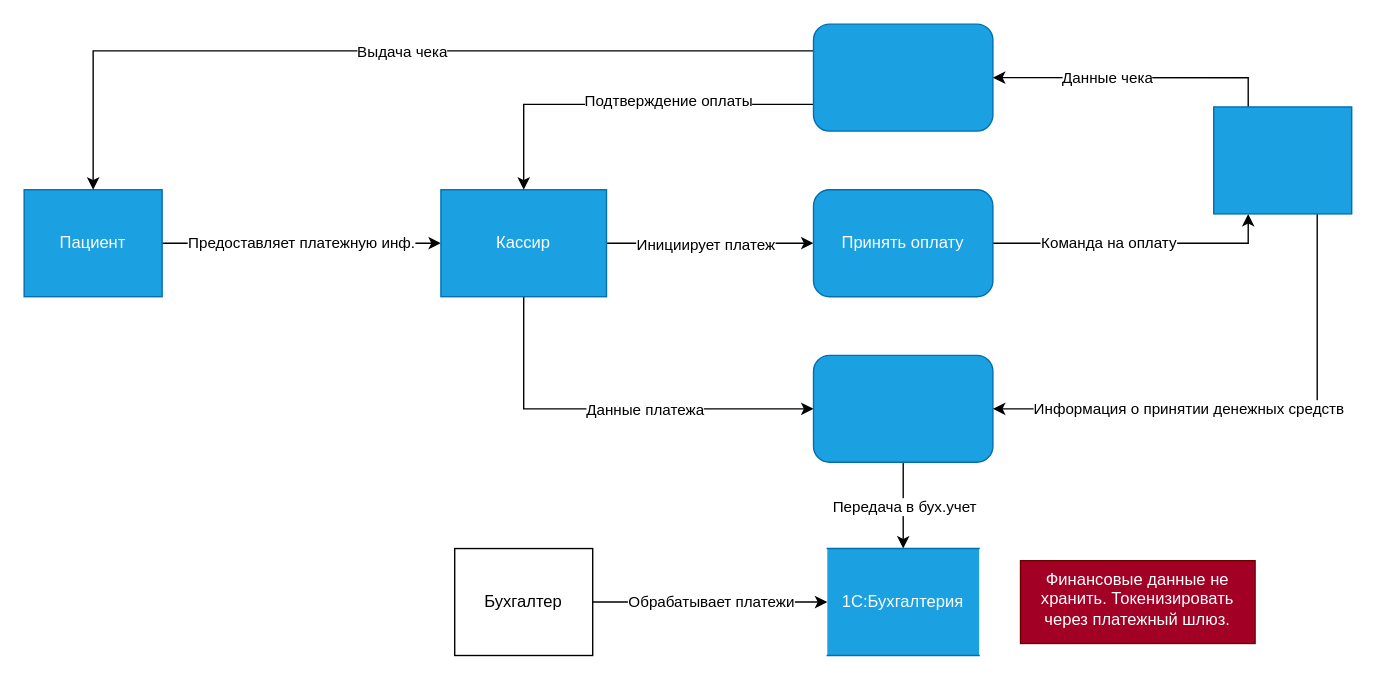
The diagram is 1376 pixels wide and 680 high, and some of its shapes have lost their labels. The shapes that lost their labels are listed below. From the top down, each one's box as (x1, y1, x2, y2) in pixels, then its label:
(812, 23, 993, 131): Выдать чек
(1212, 106, 1352, 214): ККМ
(812, 354, 993, 462): Передать данные в 1С
